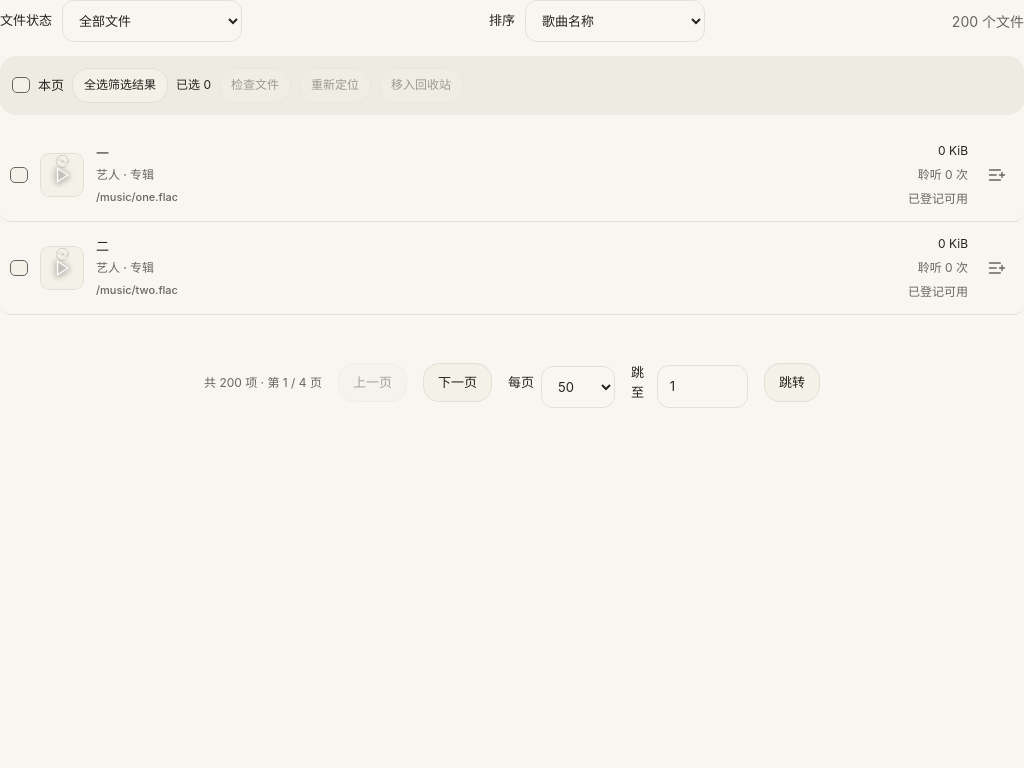
Test: 全选筛选结果后取消一首，跨页范围和确认数量一致
Later steps or results of the test are not shown.
Click the button named "播放 一" at (62, 175), box [40,153,84,197]
Click the button named "添加 二 到播放队列" at (997, 268), box [980,251,1014,285]
Click the button "全选筛选结果" at (120, 85), box [72,68,168,103]
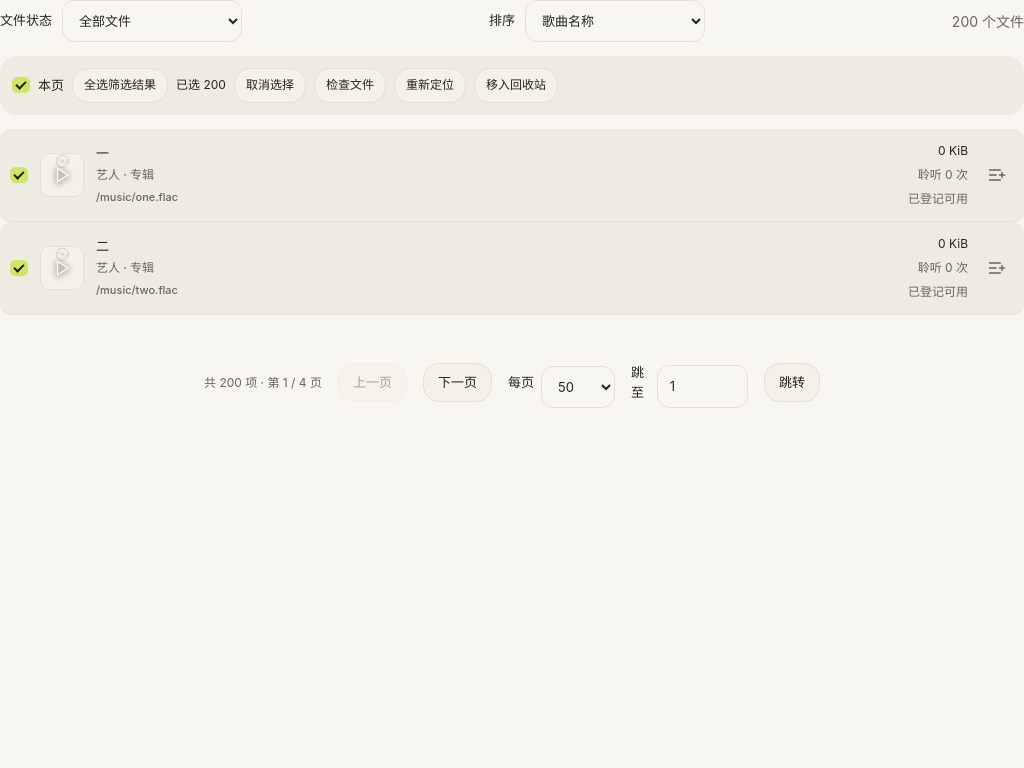
Click the checkbox named "选择 一" at (19, 175), box [10,167,28,183]
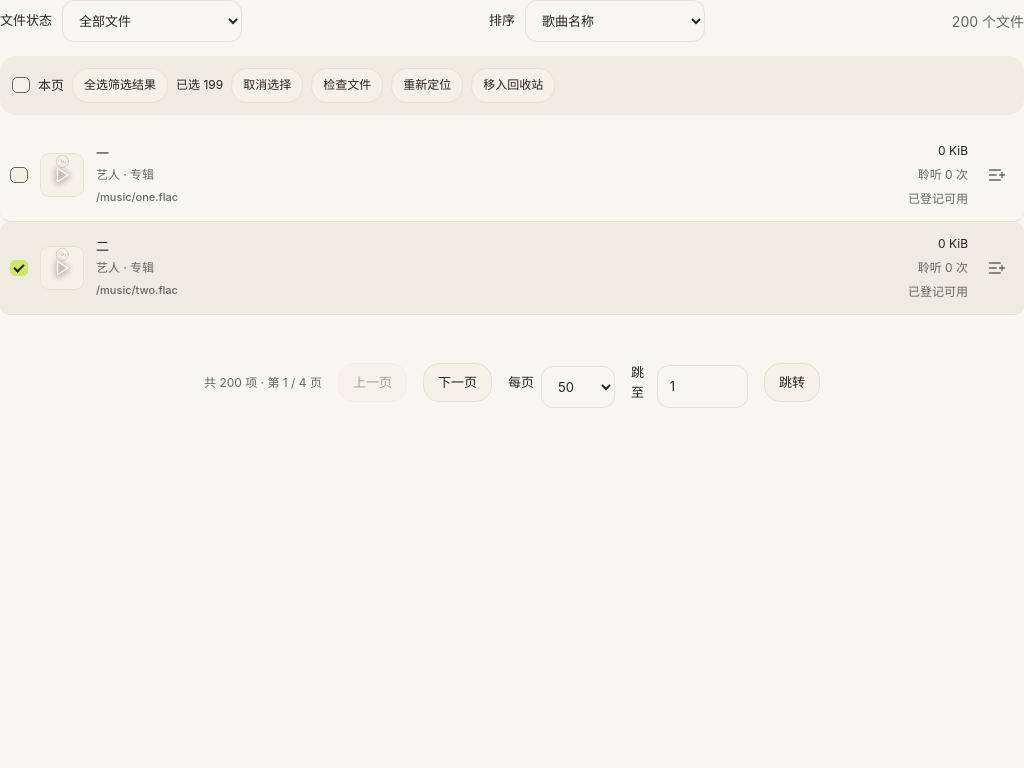
Now the checkbox named "选择 二" is checked, box [10,260,28,276]
Now the text "已选 199" is shown, box [176,76,223,94]
Click the button "移入回收站" at (513, 85), box [471,68,555,103]
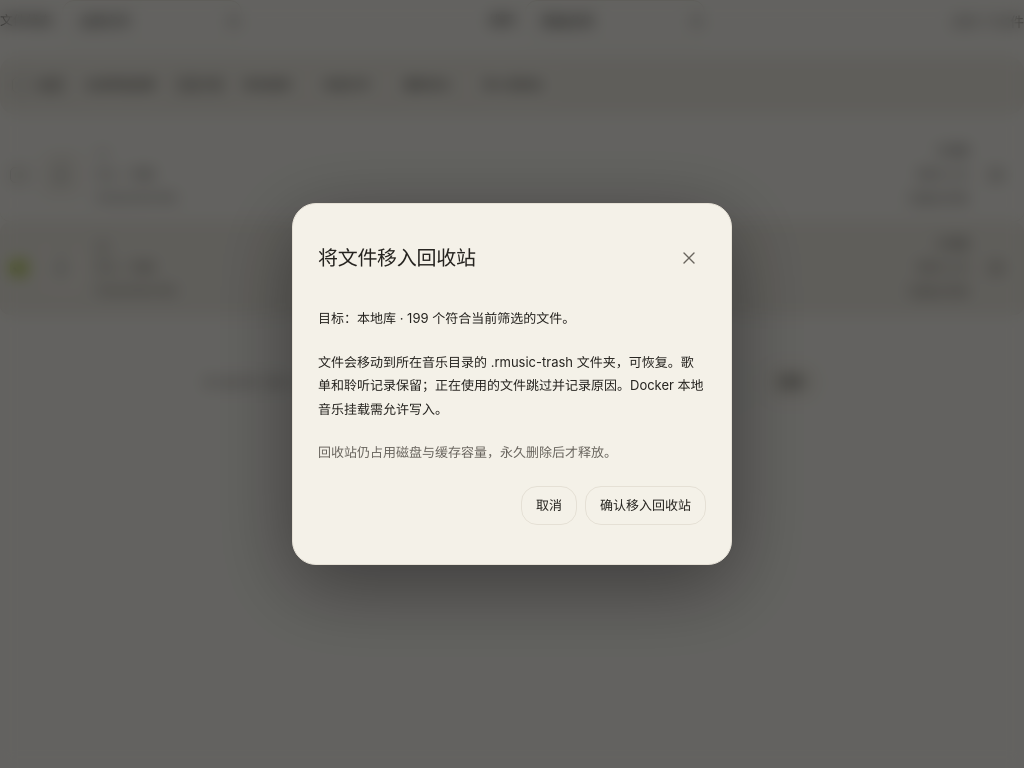
Now the dialog shows "199 个", box [292,203,732,564]
